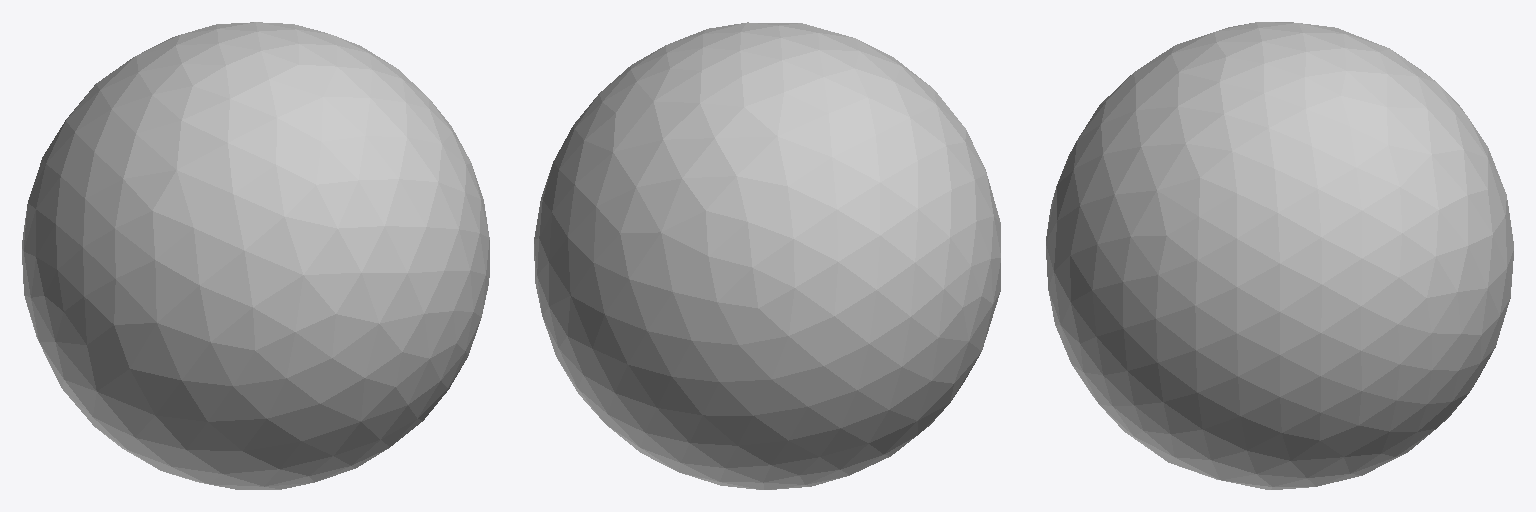
The model's file is sphere_fine.obj.
3 renders of one model, left to right at view 1: azimuth 30°, elevation 25°; view 2: azimuth 150°, elevation 25°; view 3: azimuth 270°, elevation 25°, orthographic.
Size of the model in its own units: 2 by 2 by 2.